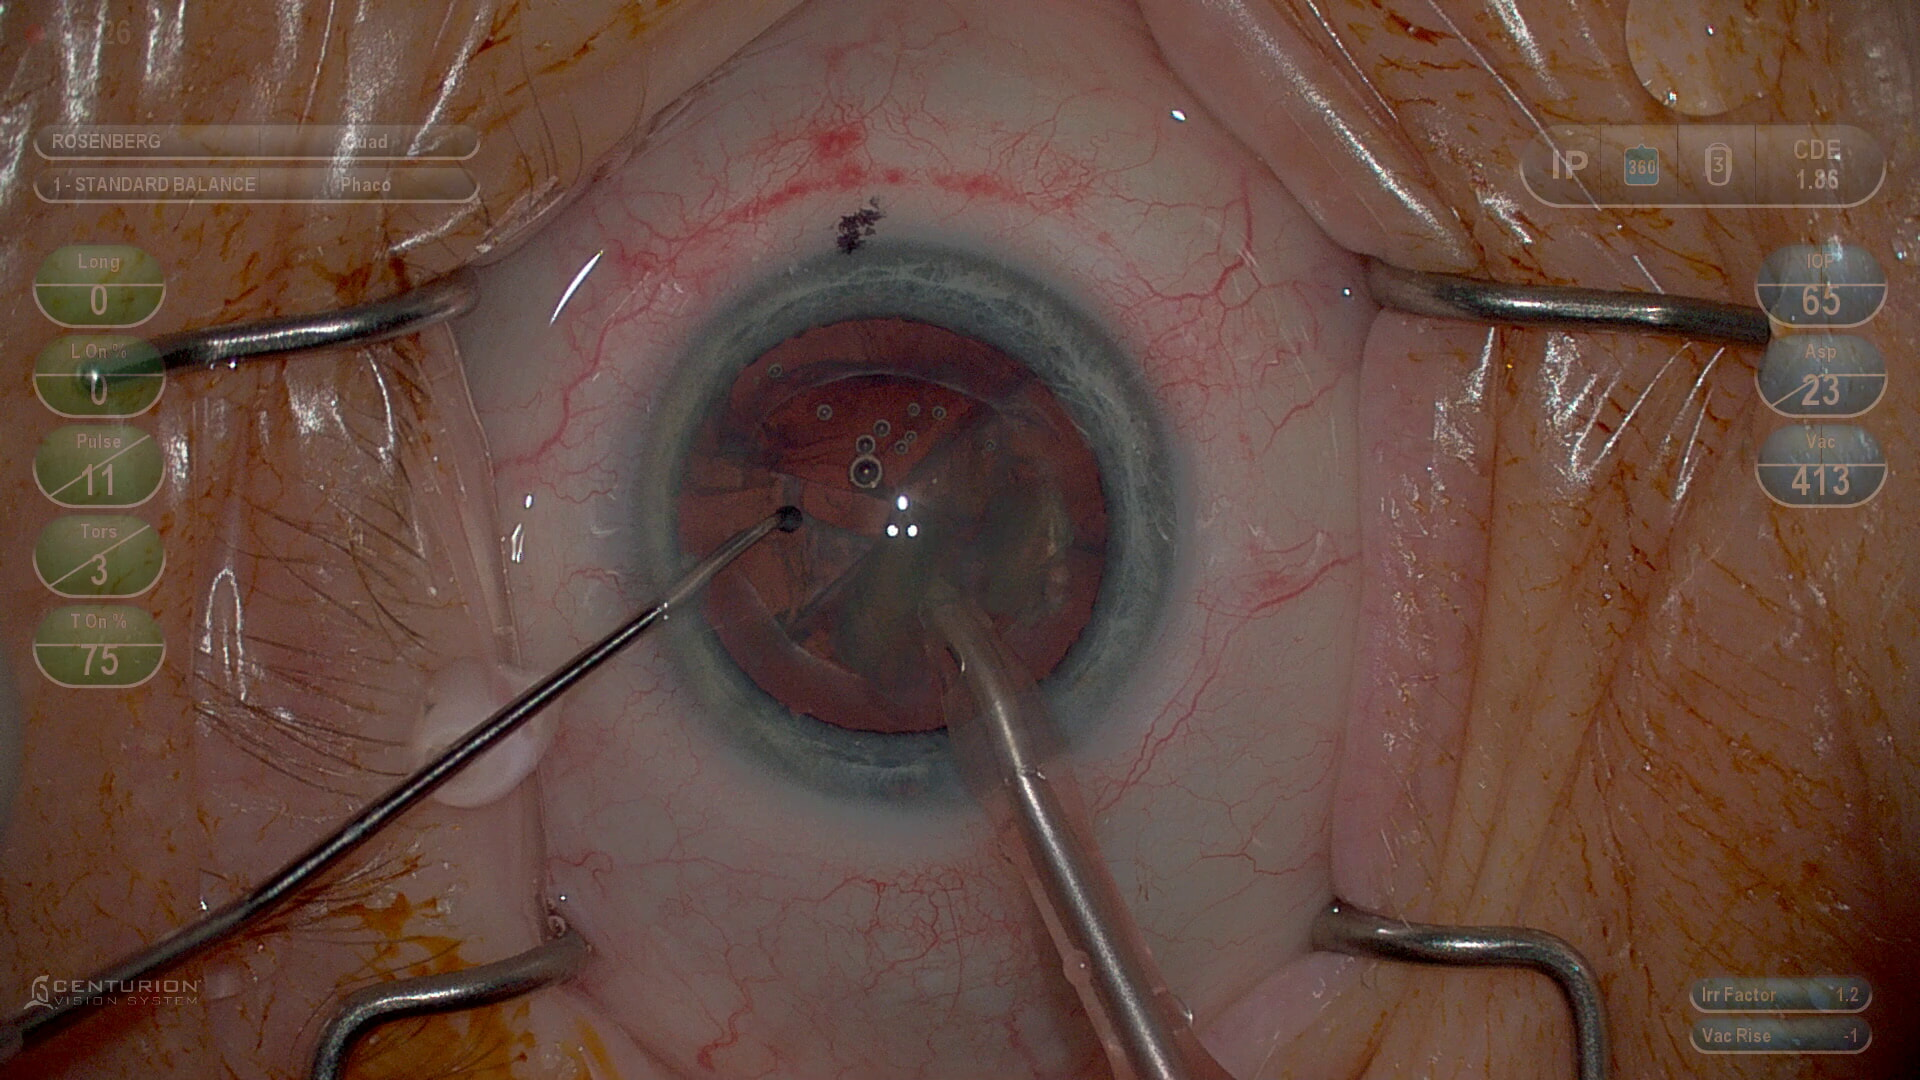iris: (647, 244, 1166, 802), (672, 314, 1123, 741)
